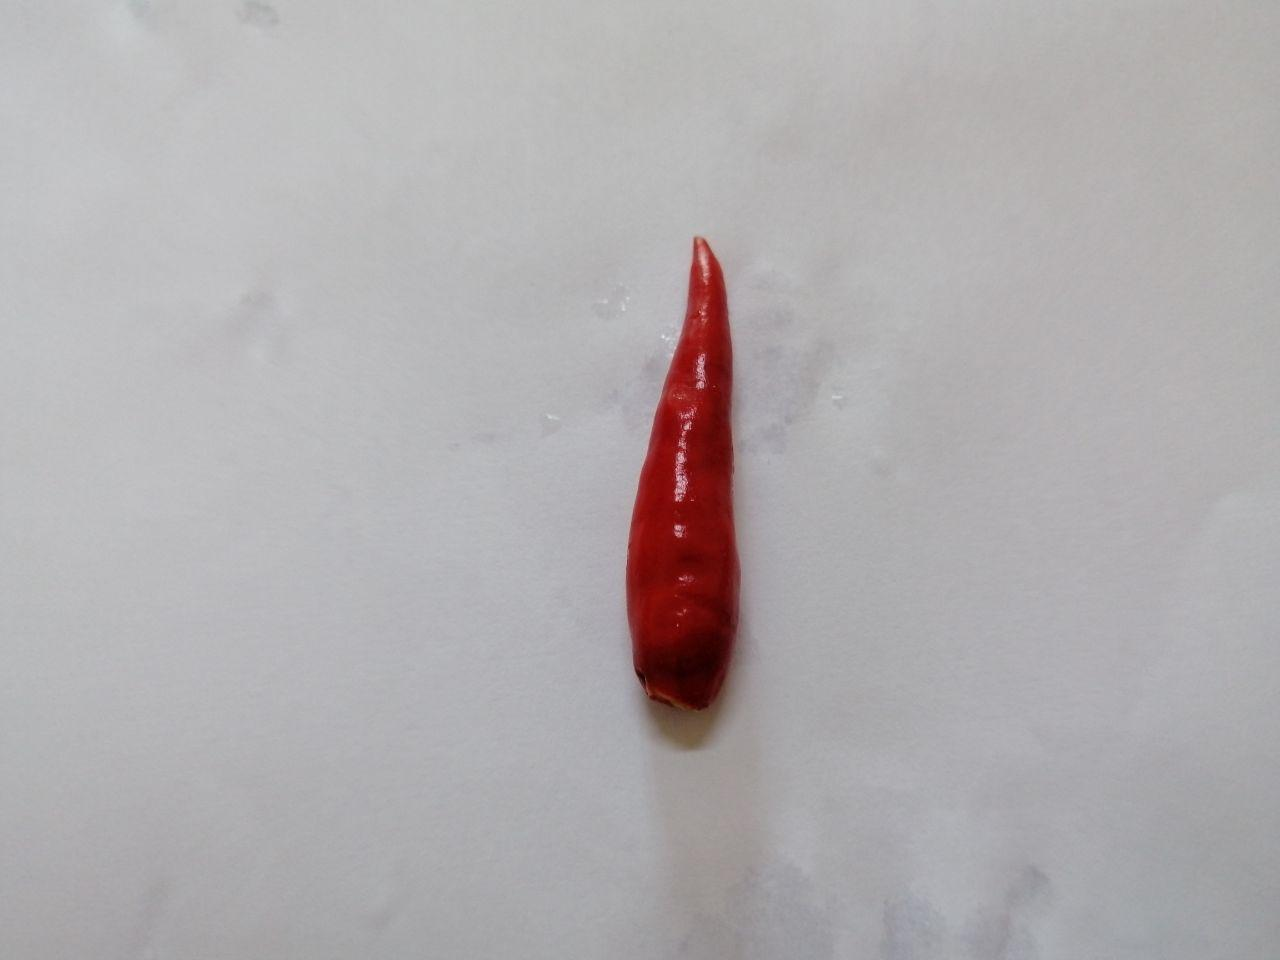lada merah: (566, 202, 771, 739)
